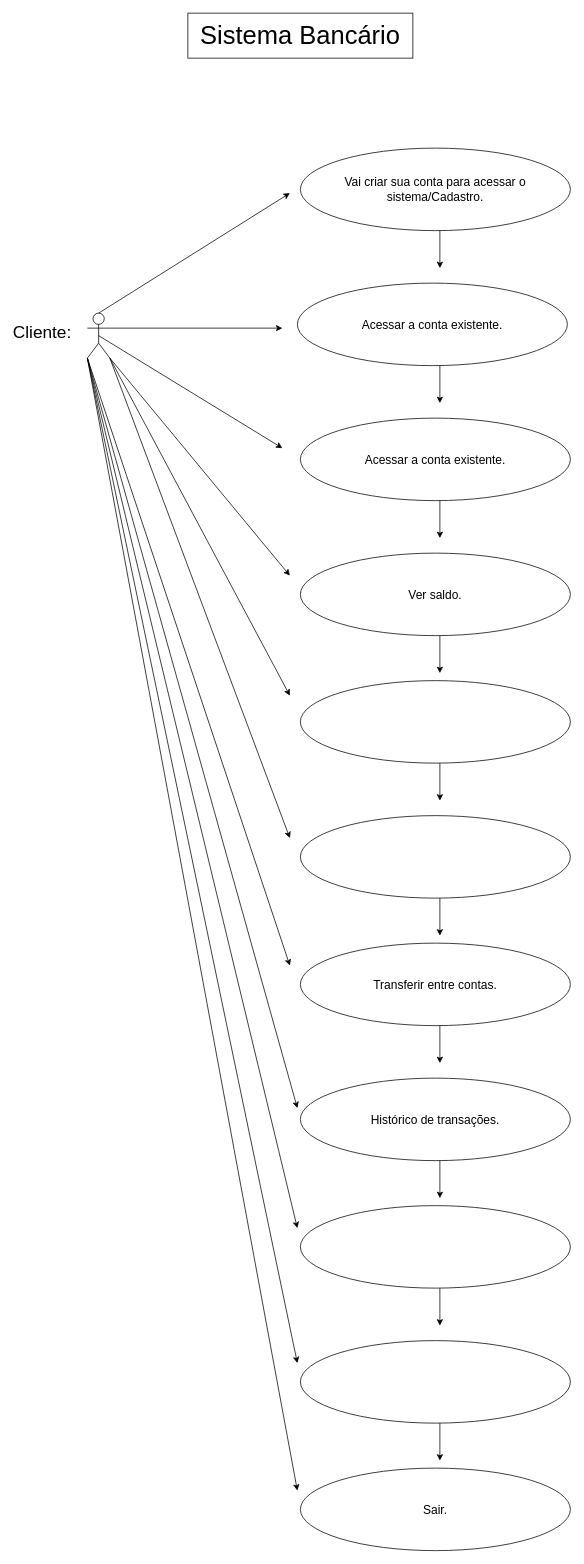
Some shapes in this 584 by 1564 pixel diagram are drawn without their labels. Here are the shapes that lost their labels. From the top down, the centre of each, then its label:
[435,721]: Depositar dinheiro.
[435,856]: Sacar dinheiro.
[435,1246]: Atualizar dados cadastrais.
[435,1381]: Encerrar conta.
